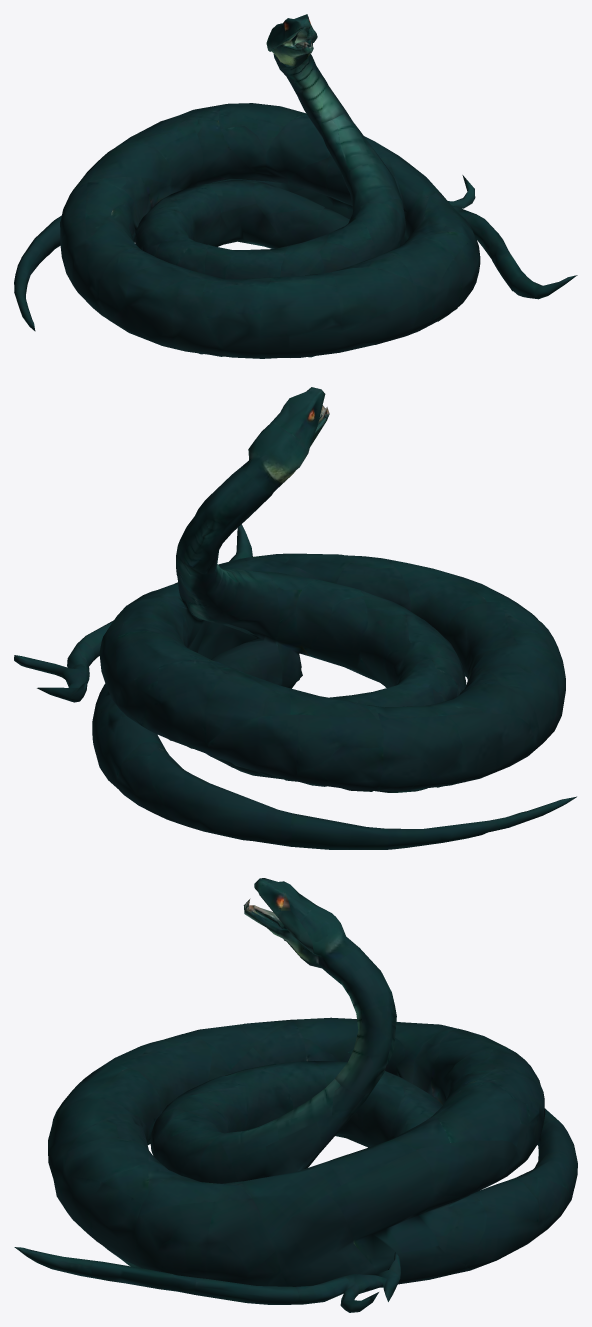
File: snake.glb
3 renders of one model, top to bottom at view 1: azimuth 30°, elevation 25°; view 2: azimuth 150°, elevation 25°; view 3: azimuth 270°, elevation 25°, orthographic. The views are drawn at different scales.
Bounding box in the file's own units: 1.9 × 1.11 × 1.68.
Materials: 1 (1 with a texture image).
